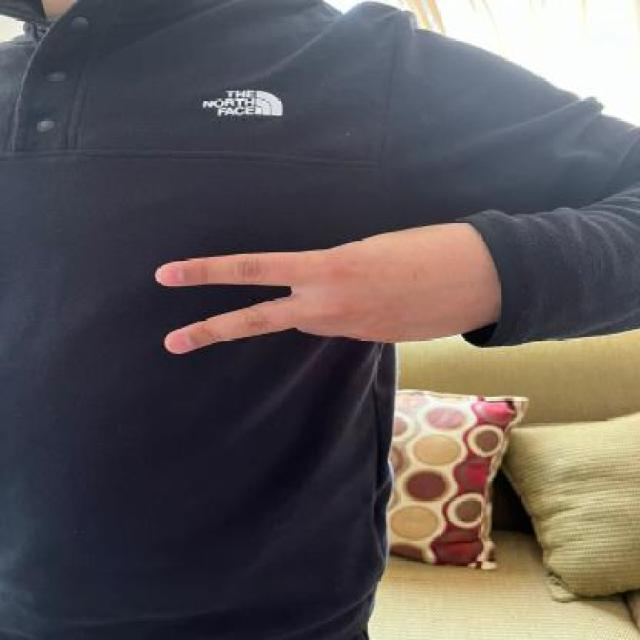H: (149, 216, 526, 370)
